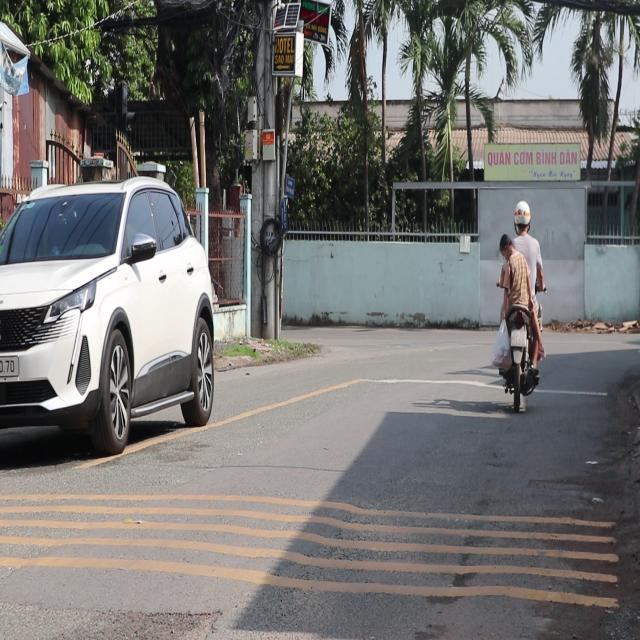helmet: (512, 198, 531, 233)
licenseplate: (489, 196, 546, 408)
motorcyclist: (498, 233, 513, 258)
nohelmet: (511, 330, 526, 346)
